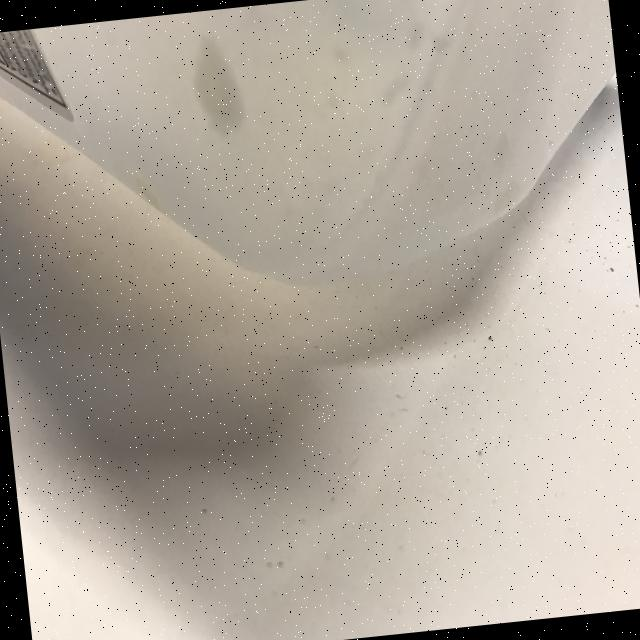plastic: (0, 0, 622, 372)
